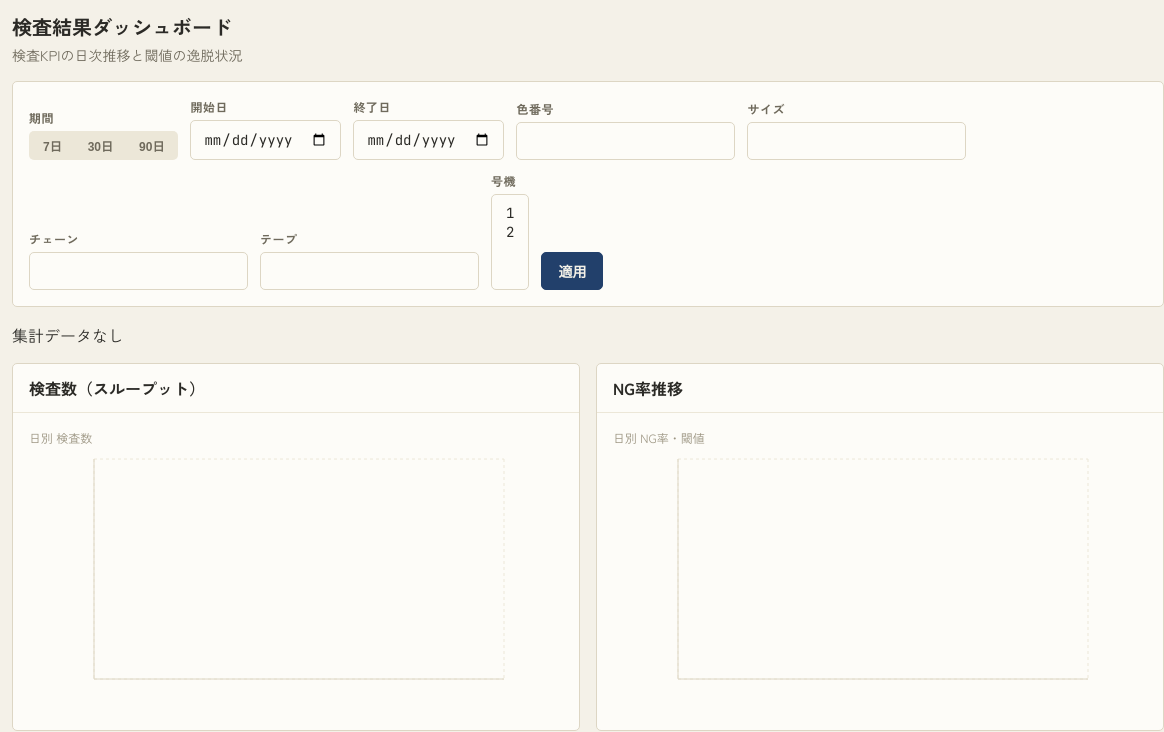
Scenario: Dashboard › 期間セグメントを選ぶと開始日・終了日が自動設定される（ローカル日付・UTC変換しない）
The image size is (1164, 732).
Check: the option "1" is shown, box 504,204 -> 516,223
Click the tab "7日": [52, 146] box 31,133 -> 74,158
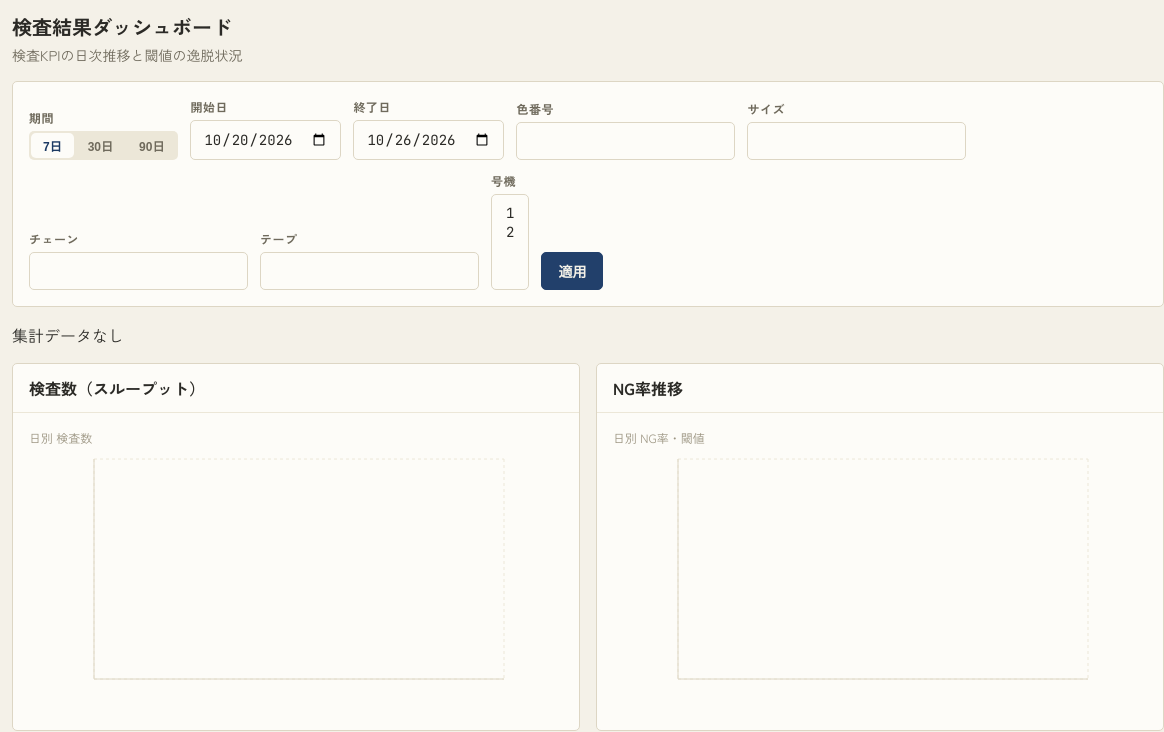
Check: the date field labelled "開始日" is not empty, box 190,120 -> 341,160
Check: the date field labelled "終了日" is not empty, box 353,120 -> 504,160
